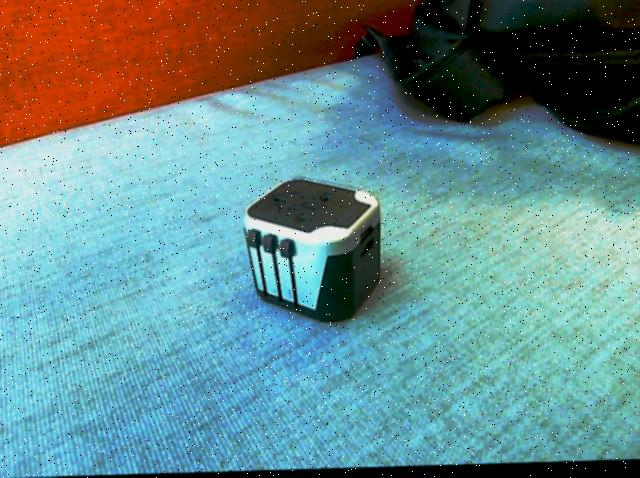adapter: (242, 177, 381, 326)
